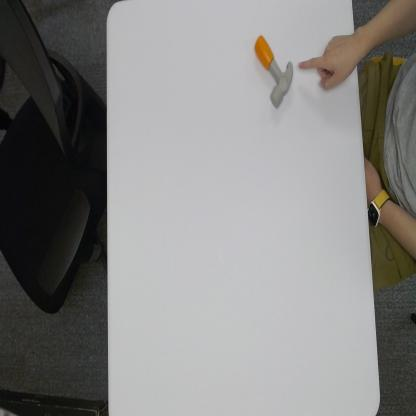Hammer: (254, 34, 295, 110)
Hand: (300, 31, 364, 92)
